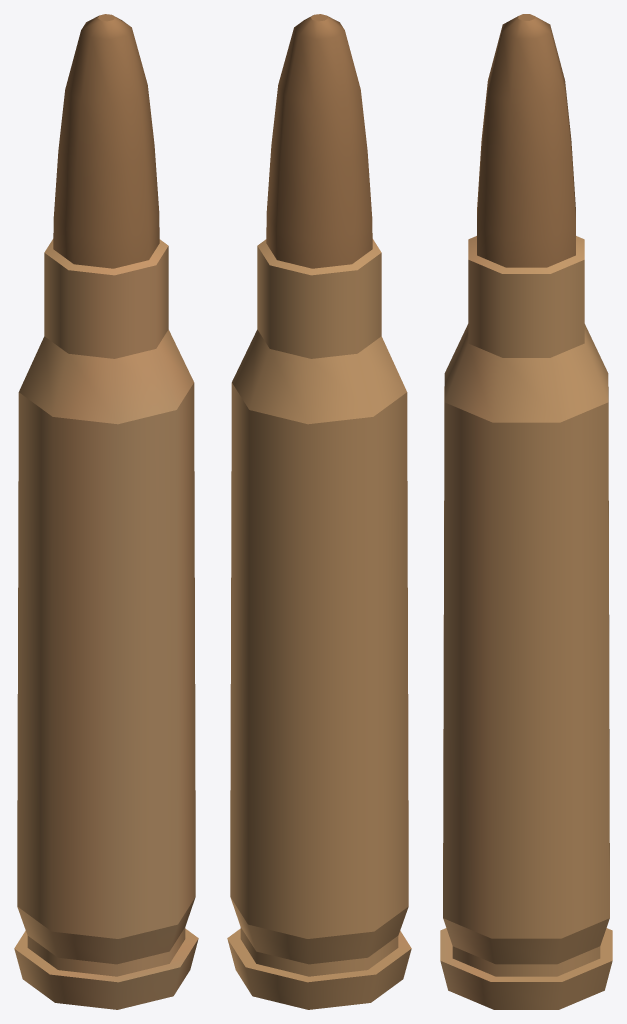
File: SM_Bullet_02.fbx
3 renders of one model, left to right at view 1: azimuth 30°, elevation 25°; view 2: azimuth 150°, elevation 25°; view 3: azimuth 270°, elevation 25°, orthographic.
Parts seen in each view (by area): view 1: SM_Bullet_02; view 2: SM_Bullet_02; view 3: SM_Bullet_02.
Part boxes in pixels (x1,y1,x2,y2): SM_Bullet_02: (14, 14, 198, 1009); SM_Bullet_02: (227, 14, 411, 1009); SM_Bullet_02: (440, 14, 612, 1009).
Bounding box in the file's own units: 4.04 × 24.82 × 4.04.
1 material, 1 textured.
